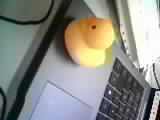duck: (54, 11, 121, 75)
